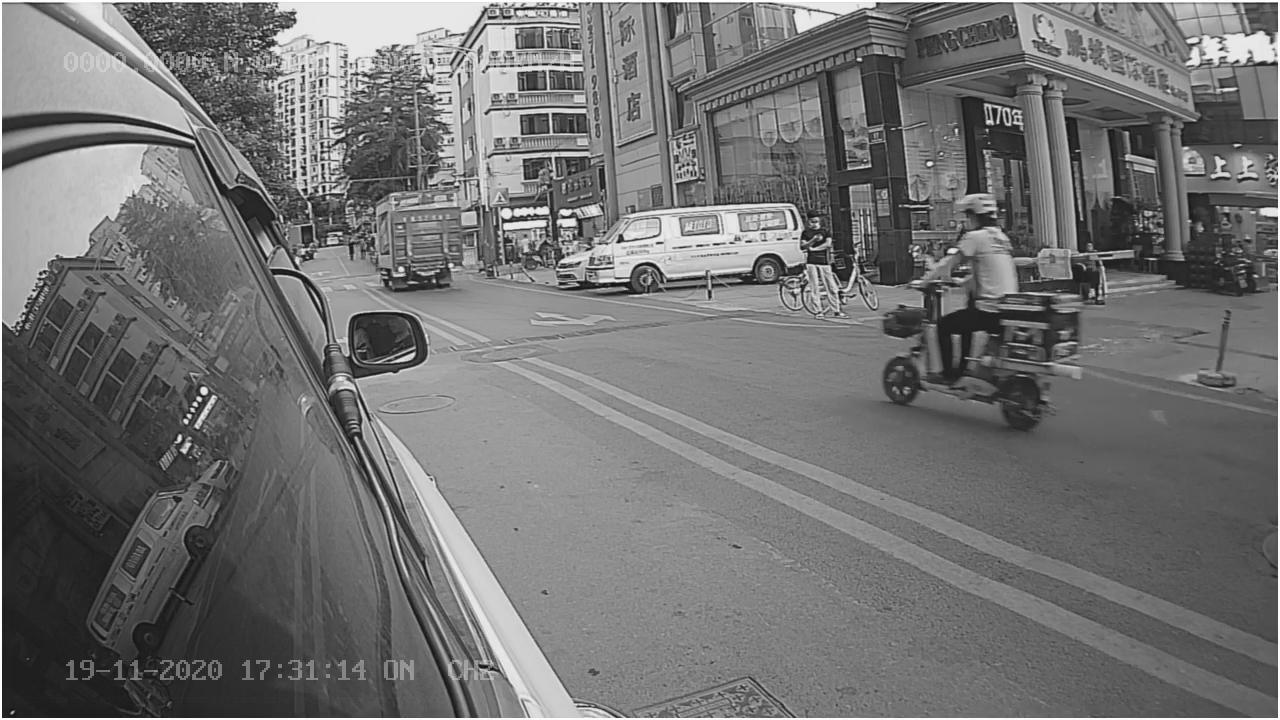person: (922, 193, 1023, 300)
